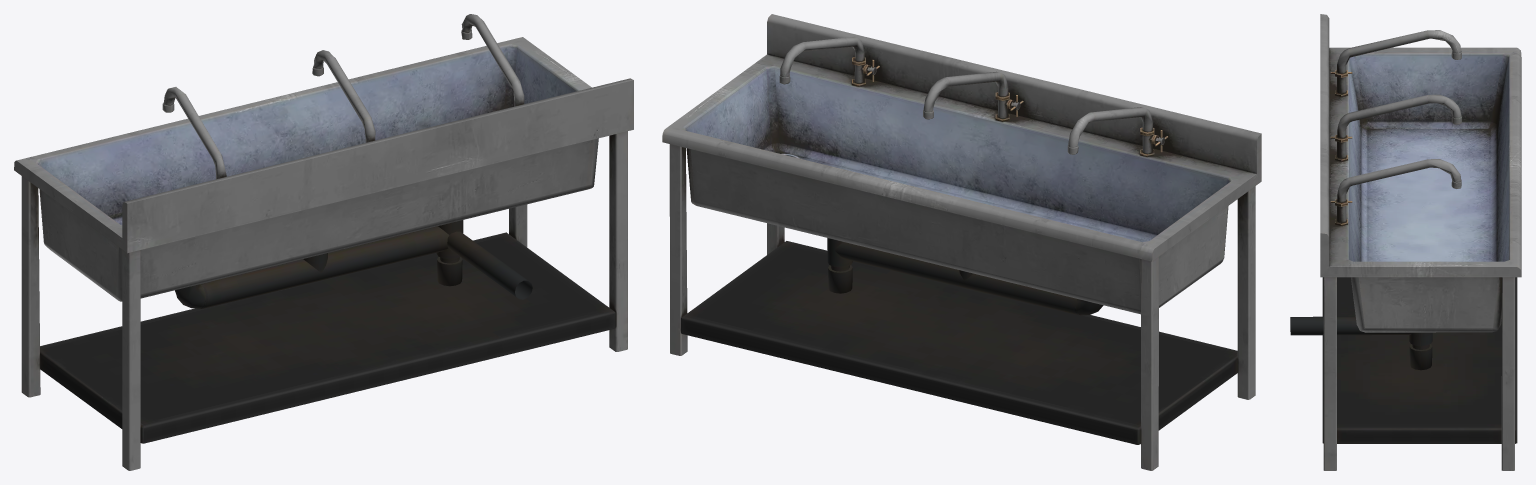
The model's file is sink_metal_long.glb.
3 views of the same model, side by side, from view 1: azimuth 30°, elevation 25°; view 2: azimuth 150°, elevation 25°; view 3: azimuth 270°, elevation 25° (orthographic). The views are drawn at different scales.
Parts seen in each view (by area): view 1: Sweep__0; view 2: Sweep__0; view 3: Sweep__0.
Boxes of the visible parts, <box> form: Sweep__0: <box>14,14,633,470</box>; Sweep__0: <box>662,14,1261,470</box>; Sweep__0: <box>1290,14,1521,470</box>.
Size of the model in its own units: 2.22 by 1.29 by 0.987.
Materials: 1 (1 with a texture image).
